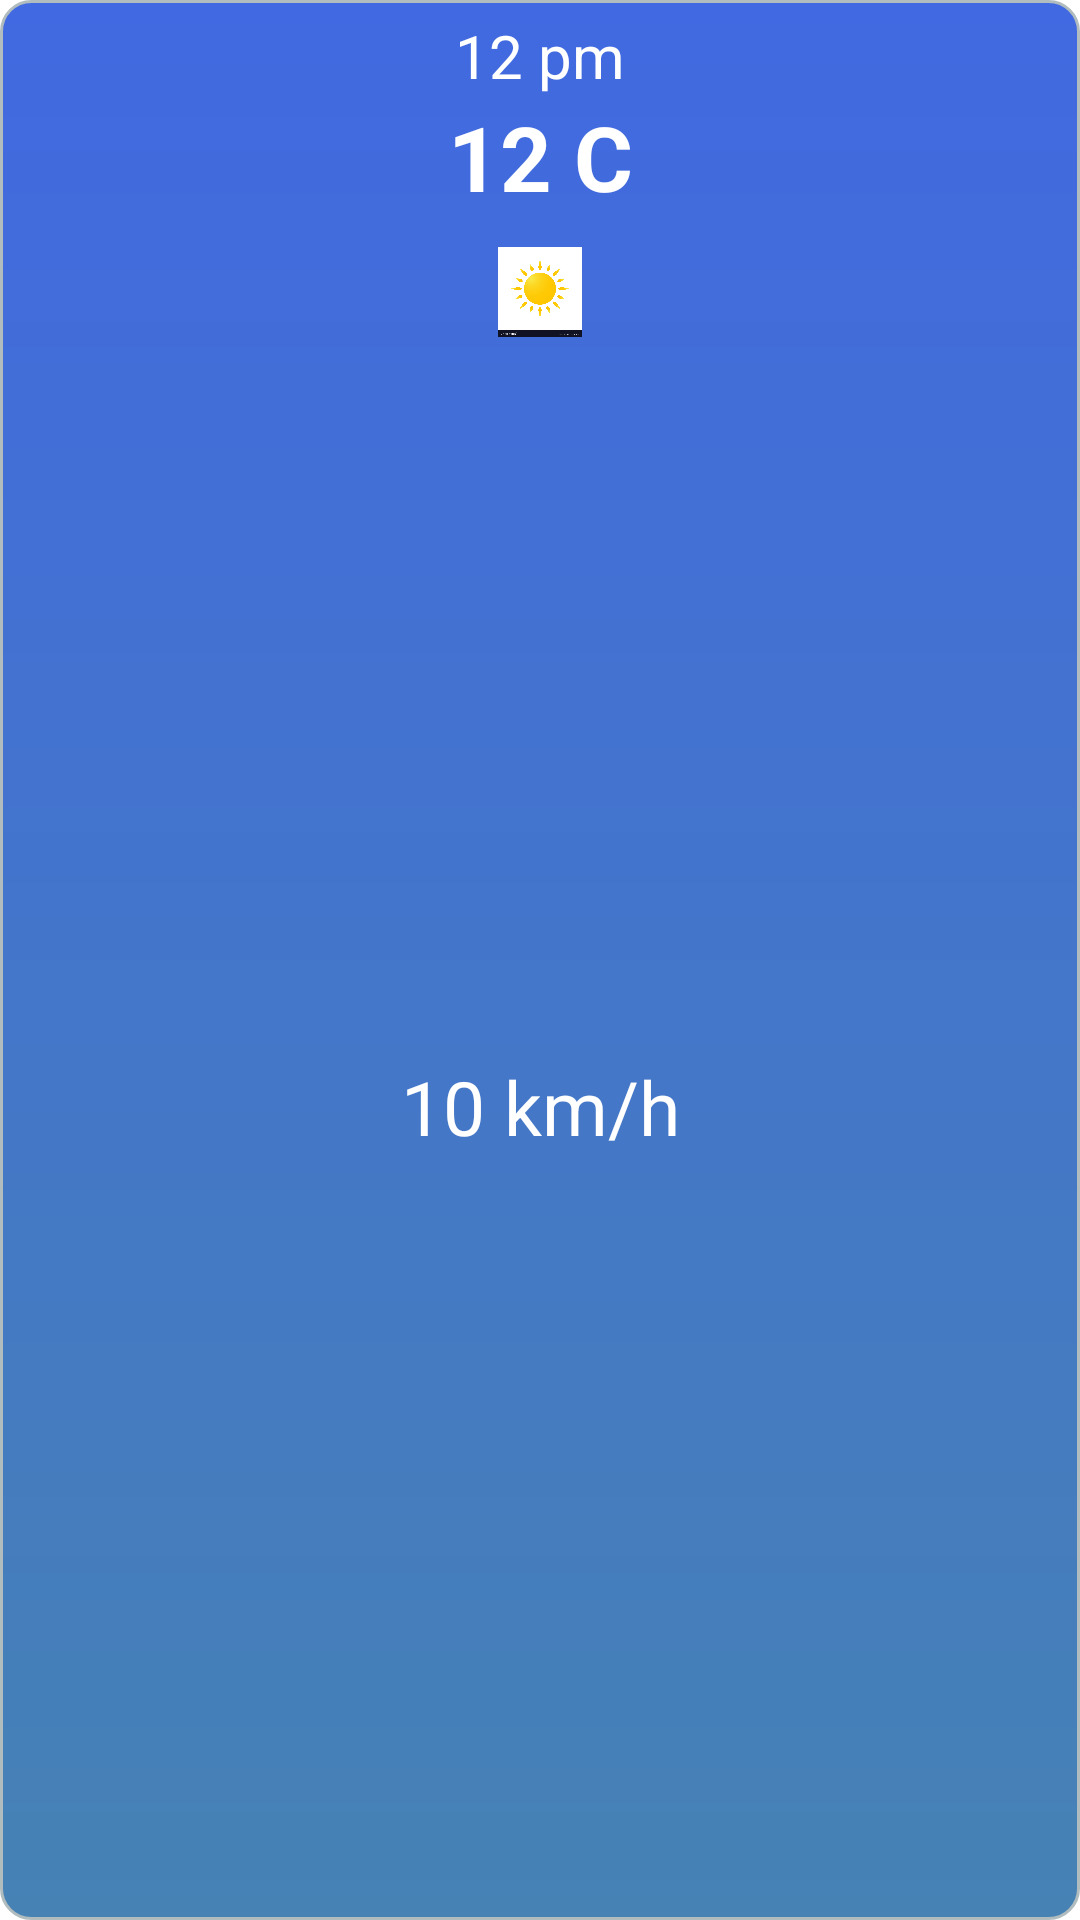

Icons on this 1080 x 1920 Android screen, each with its box as (x1, y1, x2, y2):
clear sky: (498, 247, 582, 337)
